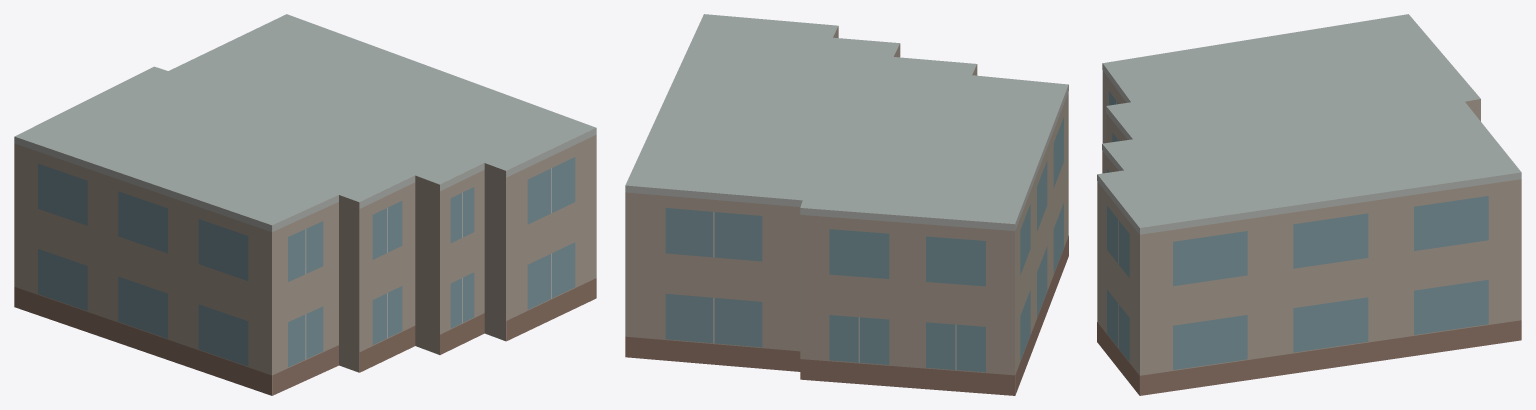
Rendered from survey-upis-32595087.glb.
3 renders of one model, left to right at view 1: azimuth 30°, elevation 25°; view 2: azimuth 150°, elevation 25°; view 3: azimuth 270°, elevation 25°, orthographic. The views are drawn at different scales.
Parts seen in each view (by area): view 1: survey-upis-32595087.tmp; view 2: survey-upis-32595087.tmp; view 3: survey-upis-32595087.tmp.
Boxes of the visible parts, x1,y1,x2,y2 form: survey-upis-32595087.tmp: (14, 14, 596, 395); survey-upis-32595087.tmp: (625, 14, 1068, 395); survey-upis-32595087.tmp: (1097, 14, 1521, 395).
Bounding box in the file's own units: 16.69 × 6.1 × 13.99.
